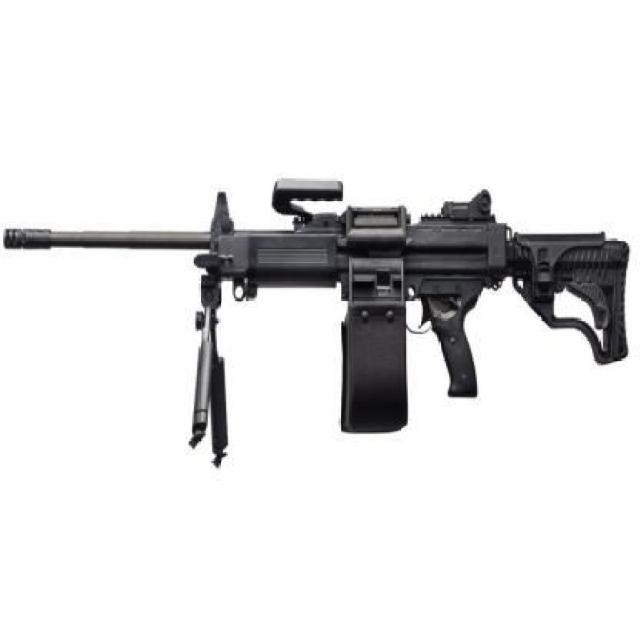weapon: (4, 145, 636, 468)
